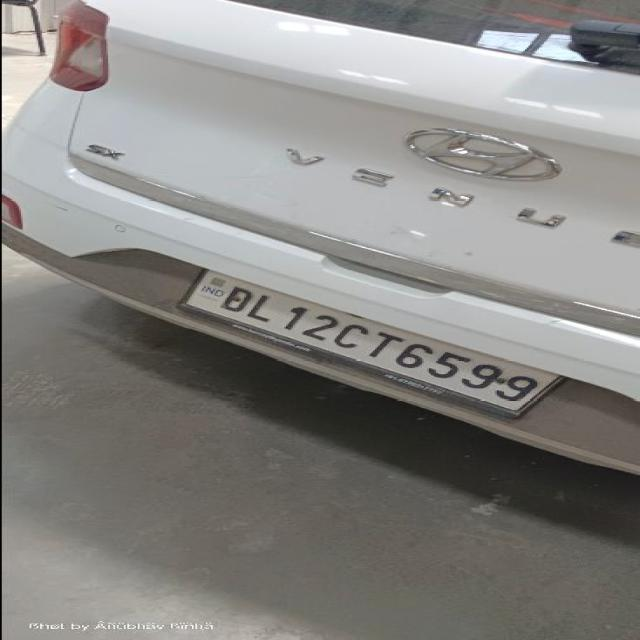license_plate: (174, 267, 567, 419)
